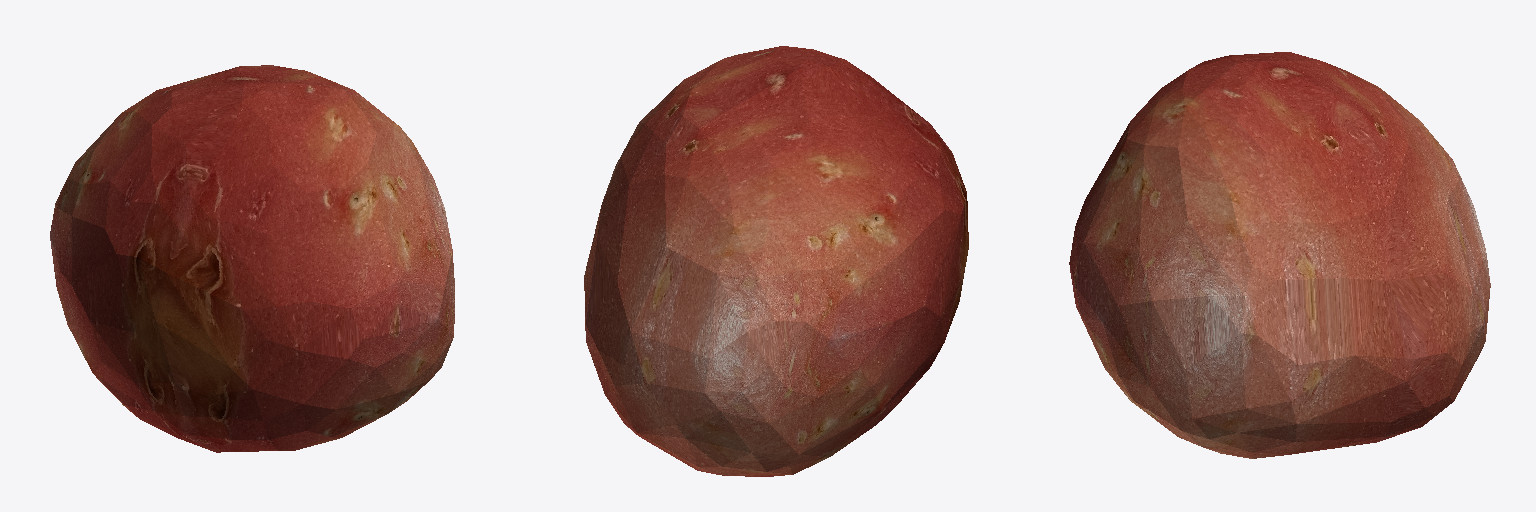
3 views of the same model, side by side, from view 1: azimuth 30°, elevation 25°; view 2: azimuth 150°, elevation 25°; view 3: azimuth 270°, elevation 25° (orthographic).
Parts seen in each view (by area): view 1: Asteroid; view 2: Asteroid; view 3: Asteroid.
Boxes of the visible parts, x1=… form: Asteroid: x1=50, y1=65, x2=454, y2=452; Asteroid: x1=584, y1=46, x2=968, y2=476; Asteroid: x1=1069, y1=52, x2=1490, y2=458.
Bounding box in the file's own units: 4.39 × 4.56 × 4.71.
Materials: 1 (1 with a texture image).